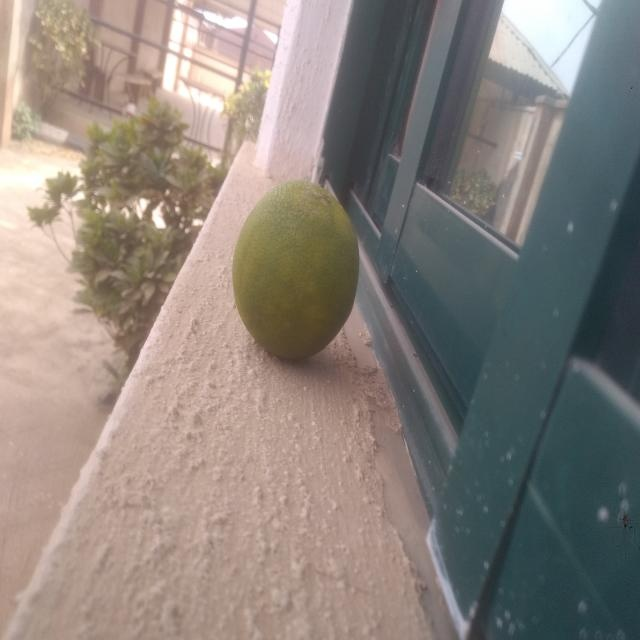agrume: (214, 145, 358, 352)
